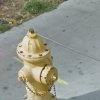Hydrant: (13, 19, 64, 100)
